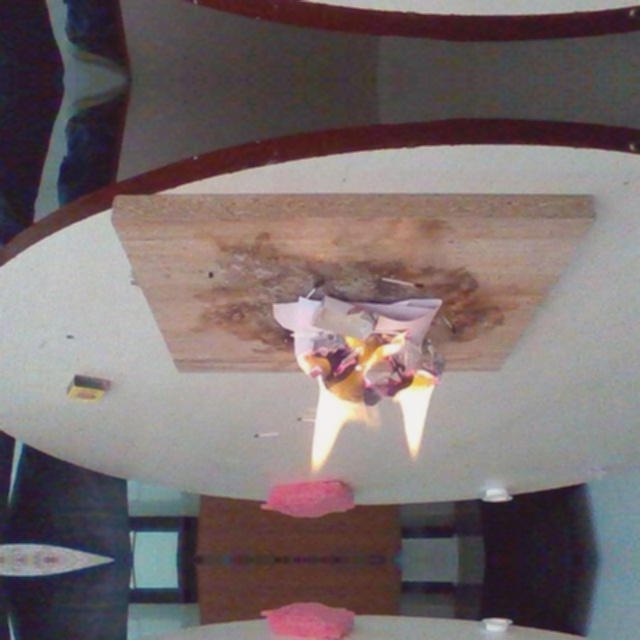fire: (267, 298, 477, 503)
